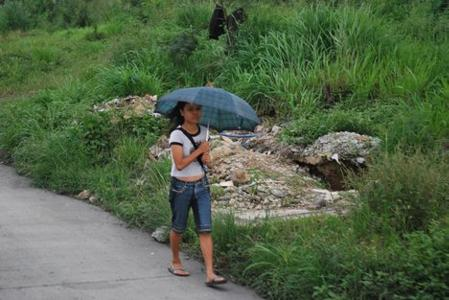person: (168, 101, 226, 284)
